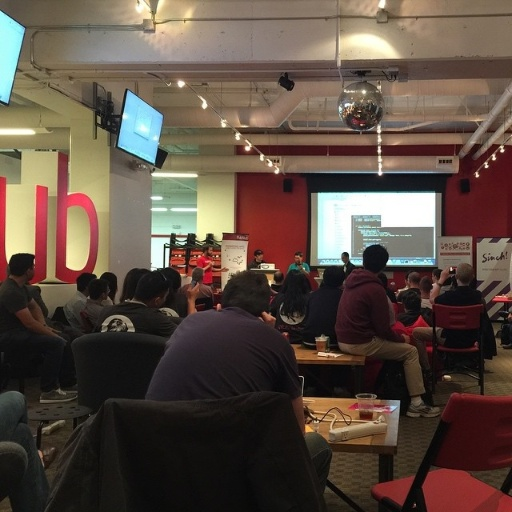hand: (257, 311, 276, 328), (185, 280, 200, 300), (440, 265, 449, 284), (214, 300, 224, 312), (400, 332, 412, 342), (48, 326, 63, 333), (208, 259, 216, 268), (220, 265, 230, 272), (297, 264, 305, 271)
